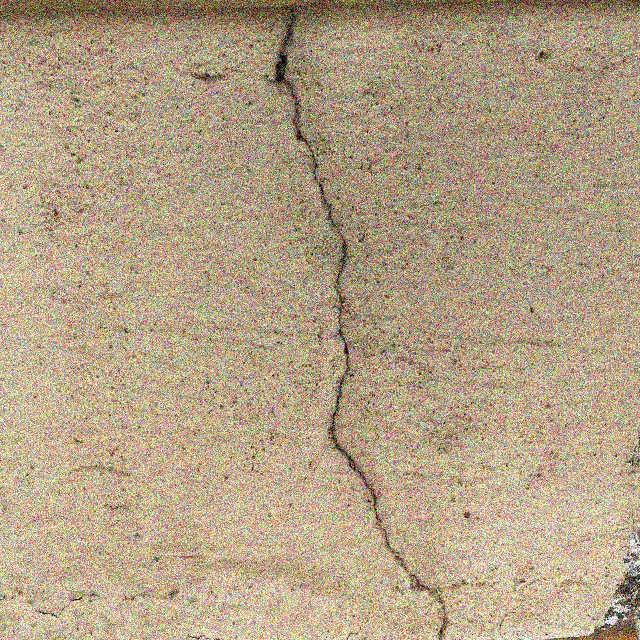SurfaceCrack: (234, 5, 477, 639)
